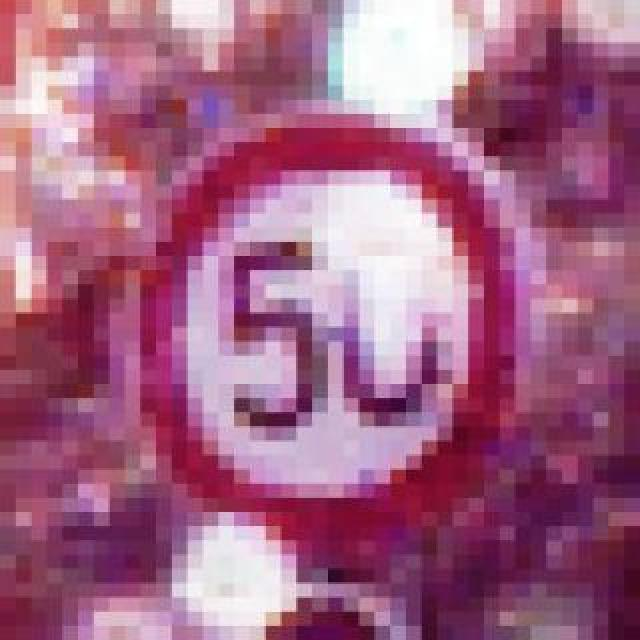50 kph: (110, 100, 500, 540)
